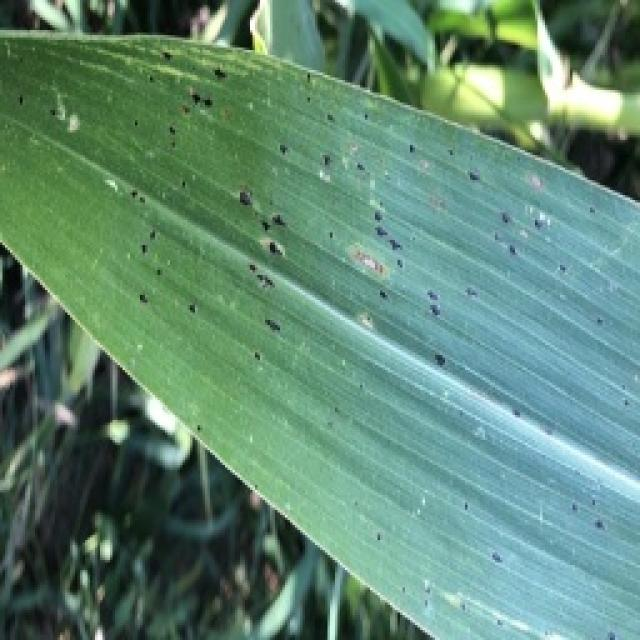Tar_Spot: (136, 75, 505, 363)
